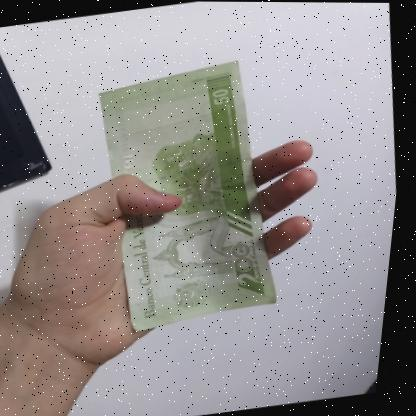fifty-back-vef: (76, 54, 306, 336)
